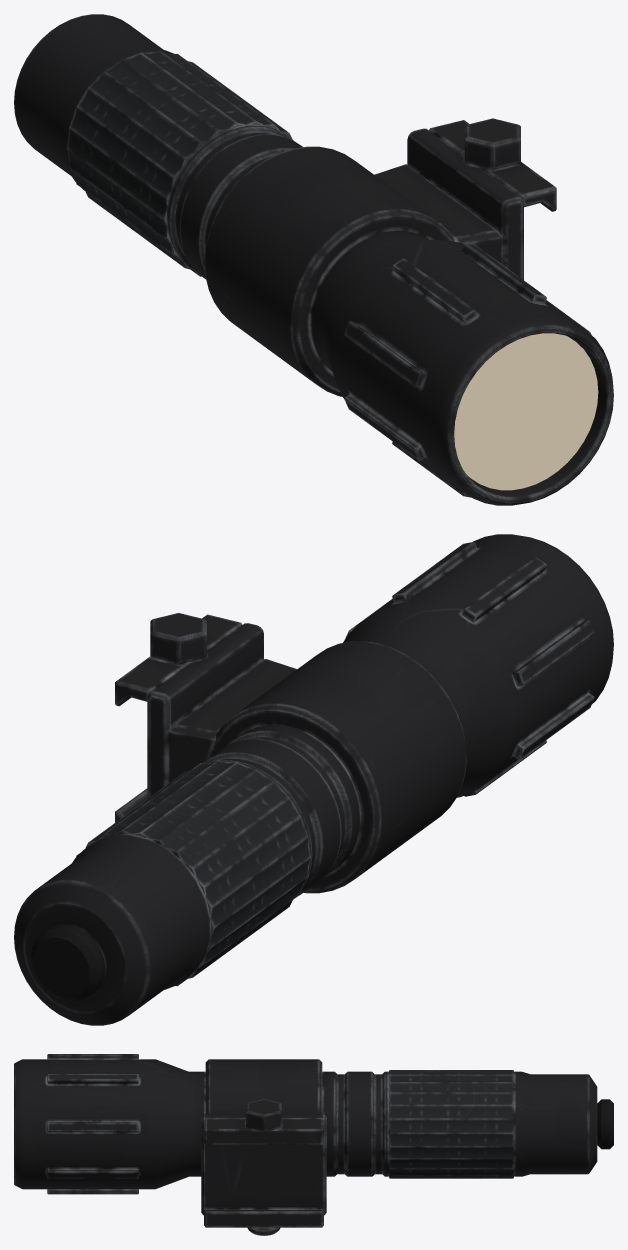
File: Flashlight.fbx
3 views of the same model, one above another, from view 1: azimuth 30°, elevation 25°; view 2: azimuth 150°, elevation 25°; view 3: azimuth 270°, elevation 25° (orthographic). The views are drawn at different scales.
Parts seen in each view (by area): view 1: Body, Lens; view 2: Body; view 3: Body.
Boxes of the visible parts, bbox=[...] form: Body: bbox=[14, 14, 613, 505]; Lens: bbox=[454, 333, 598, 490]; Body: bbox=[14, 534, 613, 1025]; Body: bbox=[14, 1054, 613, 1235].
Bounding box in the file's own units: 0.0486 × 0.0334 × 0.144.
